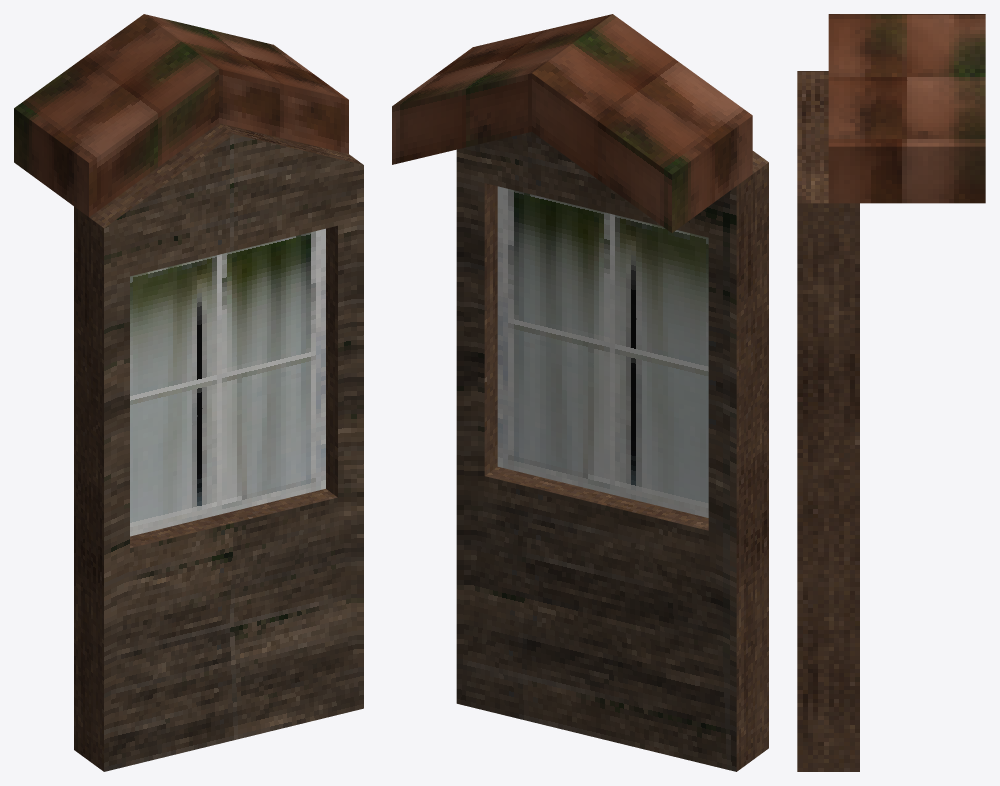
Rendered from roof_03_top_window_04.glb.
3 renders of one model, left to right at view 1: azimuth 30°, elevation 25°; view 2: azimuth 150°, elevation 25°; view 3: azimuth 270°, elevation 25°, orthographic. The views are drawn at different scales.
Parts seen in each view (by area): view 1: roof_03_top_window_042, window_attic_04_003; view 2: roof_03_top_window_042, window_attic_04_003; view 3: roof_03_top_window_042.
Part boxes in pixels (bbox=[...]): roof_03_top_window_042: bbox=[14, 14, 363, 771]; window_attic_04_003: bbox=[130, 228, 325, 536]; roof_03_top_window_042: bbox=[392, 14, 768, 771]; window_attic_04_003: bbox=[497, 186, 708, 517]; roof_03_top_window_042: bbox=[797, 14, 985, 771].
Size of the model in its own units: 1 by 2.43 by 0.6.
2 materials, 2 textured.
